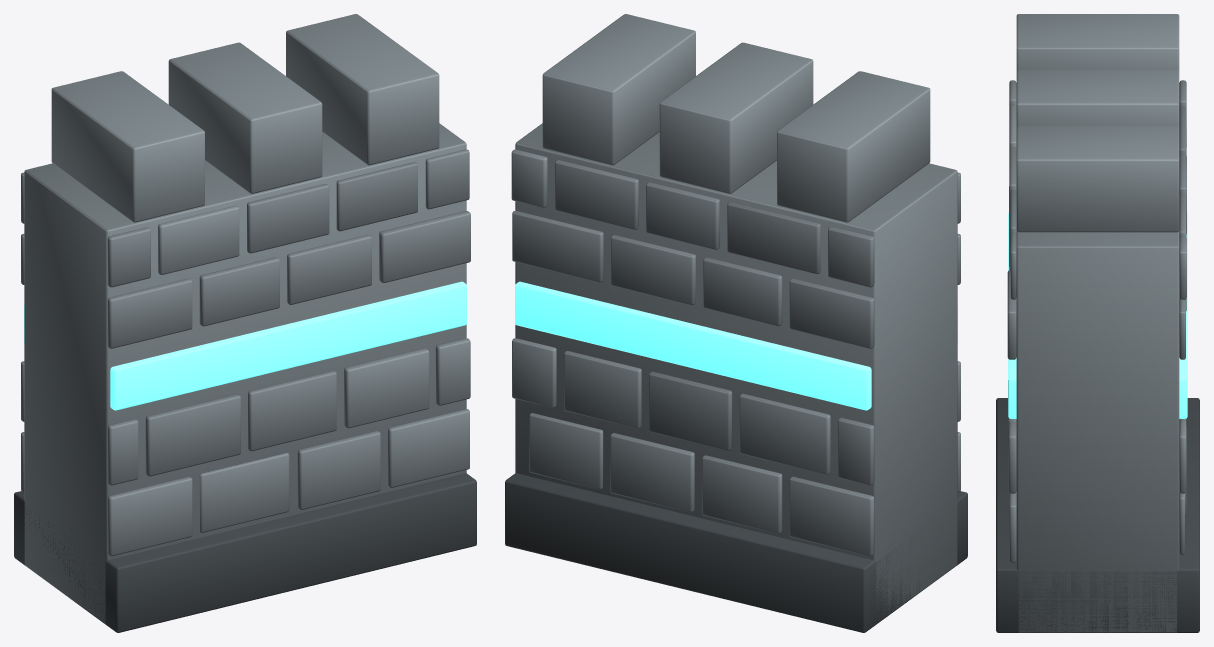
File: castle_wall_a.glb
The picture shows the model from 3 angles, left to right: view 1: azimuth 30°, elevation 25°; view 2: azimuth 150°, elevation 25°; view 3: azimuth 270°, elevation 25°; orthographic projection. The views are drawn at different scales.
Visible parts, largest first — view 1: castle_wall_a; view 2: castle_wall_a; view 3: castle_wall_a.
Boxes of the visible parts, left/top/right/bottom form: castle_wall_a: left=14, top=14, right=476, bottom=632; castle_wall_a: left=505, top=14, right=967, bottom=632; castle_wall_a: left=996, top=14, right=1199, bottom=632.
Bounding box in the file's own units: 2 × 2.5 × 1.
Materials: 2 (1 with a texture image).
